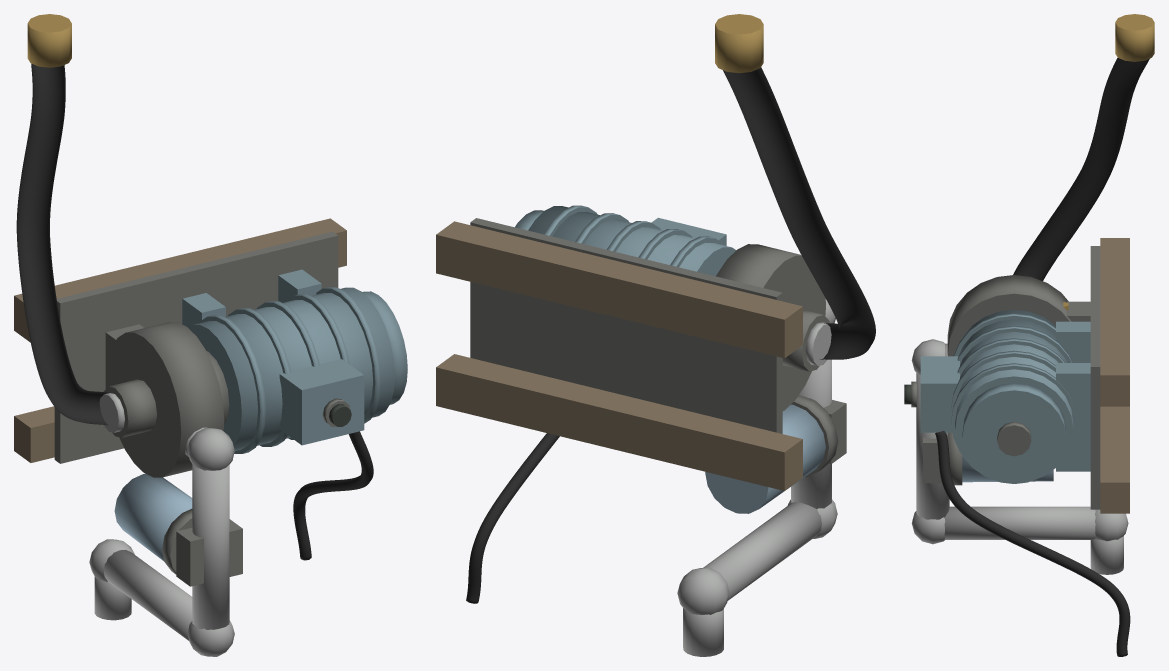
Rendered from pump_filter_off.obj.
The picture shows the model from 3 angles, left to right: view 1: azimuth 30°, elevation 25°; view 2: azimuth 150°, elevation 25°; view 3: azimuth 270°, elevation 25°; orthographic projection. The views are drawn at different scales.
Visible parts, largest first — view 1: base_plate, motor, suction_hose, volute, discharge_run, terminal_box, skid-0.12, filter_bowl, discharge_drop, power_cord, foot_valve, filter_head (+16 smaller); view 2: base_plate, skid-0.12, skid0.12, suction_hose, volute, discharge_drop, motor, filter_bowl, foot_valve, power_cord, discharge_run, discharge_elbow3 (+6 smaller); view 3: motor_bell, suction_hose, motor, skid-0.12, discharge_drop, volute, power_cord, skid0.12, base_plate, terminal_box, motor_foot0.35, discharge_run (+16 smaller).
Part boxes in pixels (box(x1,y1,x2,y2)): base_plate: box(54, 231, 338, 463); motor: box(188, 287, 395, 450); suction_hose: box(16, 63, 108, 425); volute: box(106, 322, 224, 477); discharge_run: box(192, 464, 229, 629); terminal_box: box(279, 359, 364, 445); skid-0.12: box(14, 218, 346, 342); filter_bowl: box(114, 474, 192, 561); discharge_drop: box(103, 550, 192, 640); power_cord: box(293, 431, 373, 560); foot_valve: box(27, 14, 71, 67); filter_head: box(176, 519, 242, 586); base_plate: box(470, 218, 782, 433); skid-0.12: box(436, 221, 802, 358); skid0.12: box(436, 354, 802, 490); suction_hose: box(723, 67, 875, 359); volute: box(716, 244, 825, 410); discharge_drop: box(703, 502, 821, 600); motor: box(528, 206, 736, 275); filter_bowl: box(705, 404, 825, 513); foot_valve: box(715, 14, 763, 73); power_cord: box(466, 433, 559, 603); discharge_run: box(791, 359, 831, 508); discharge_elbow3: box(677, 567, 729, 614); motor_bell: box(962, 383, 1065, 483); suction_hose: box(1013, 58, 1149, 280); motor: box(955, 309, 1073, 477); skid-0.12: box(1100, 238, 1129, 406); discharge_drop: box(944, 506, 1095, 539); volute: box(947, 275, 1071, 356); power_cord: box(935, 431, 1130, 656); skid0.12: box(1100, 406, 1129, 513); base_plate: box(1090, 246, 1100, 509); terminal_box: box(920, 356, 959, 432); motor_foot0.35: box(1056, 363, 1090, 471); discharge_run: box(916, 373, 949, 519).
Size of the model in its own units: 0.7144 by 1.18 by 0.508.
8 materials, 8 textured.
